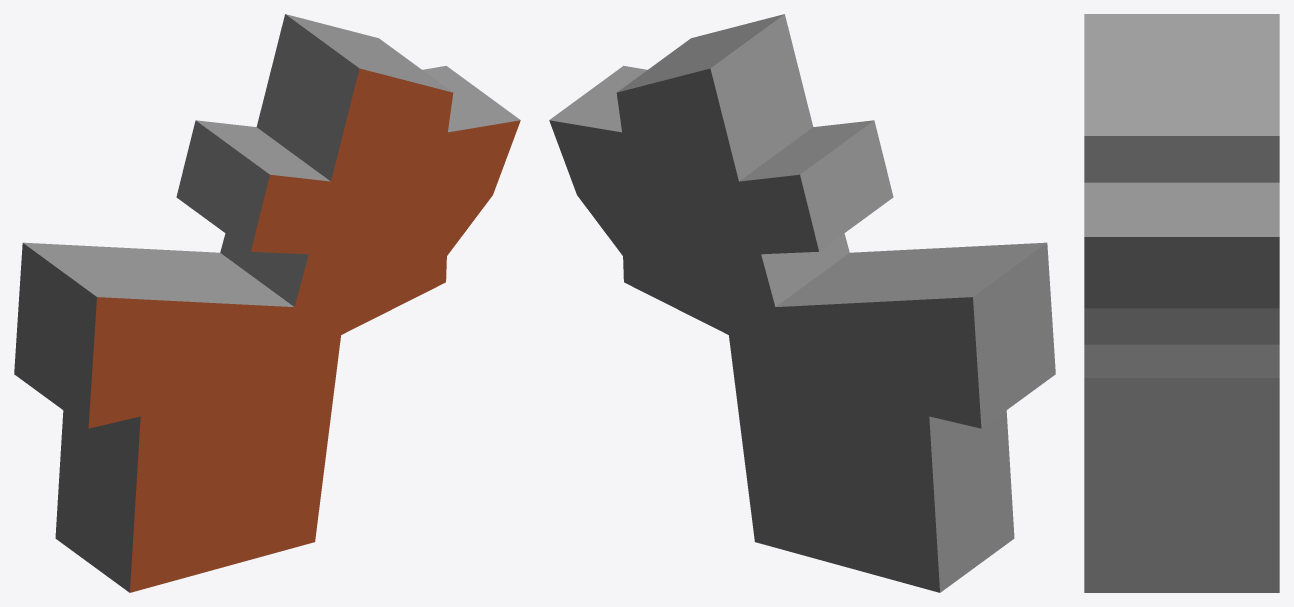
Rendered from construction_1936_assumed_A_Casa_h6m.obj.
3 renders of one model, left to right at view 1: azimuth 30°, elevation 25°; view 2: azimuth 150°, elevation 25°; view 3: azimuth 270°, elevation 25°, orthographic. The views are drawn at different scales.
Visible parts, largest first — view 1: construction_1936_assumed_A_Casa; view 2: construction_1936_assumed_A_Casa; view 3: construction_1936_assumed_A_Casa.
Boxes of the visible parts, bbox=[...] form: construction_1936_assumed_A_Casa: bbox=[14, 14, 520, 592]; construction_1936_assumed_A_Casa: bbox=[549, 14, 1055, 592]; construction_1936_assumed_A_Casa: bbox=[1084, 14, 1279, 592].
Bounding box in the file's own units: 20.13 × 20.85 × 6.
